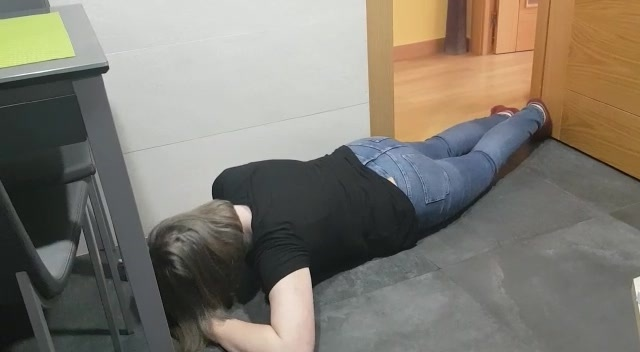fall: (150, 80, 560, 352)
